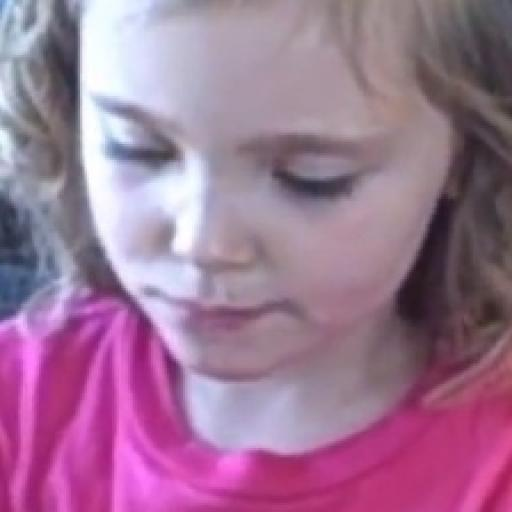Autism: (0, 10, 512, 417)
